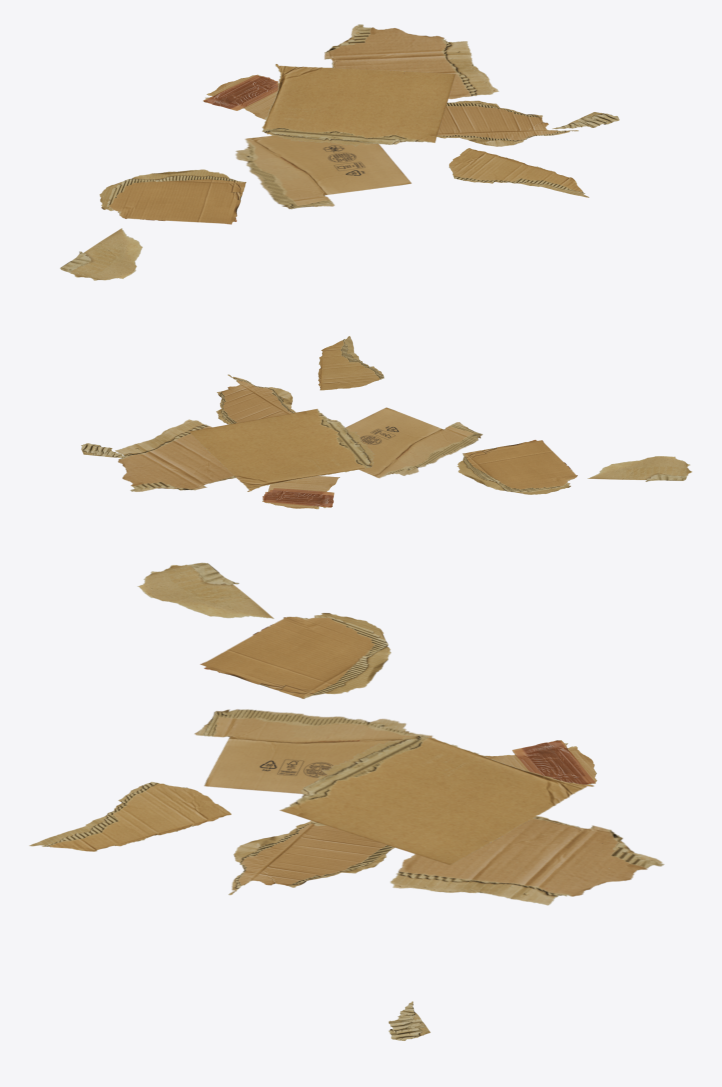
File: cardboard_2.glb
3 views of the same model, one above another, from view 1: azimuth 30°, elevation 25°; view 2: azimuth 150°, elevation 25°; view 3: azimuth 270°, elevation 25° (orthographic). The views are drawn at different scales.
Parts seen in each view (by area): view 1: cardboard_lie2; view 2: cardboard_lie2; view 3: cardboard_lie2.
Boxes of the visible parts, x1=… form: cardboard_lie2: x1=60, y1=24, x2=619, y2=280; cardboard_lie2: x1=81, y1=336, x2=692, y2=509; cardboard_lie2: x1=29, y1=562, x2=664, y2=1040.
Size of the model in its own units: 5.12 by 0.4995 by 3.3.
Materials: 1 (1 with a texture image).
